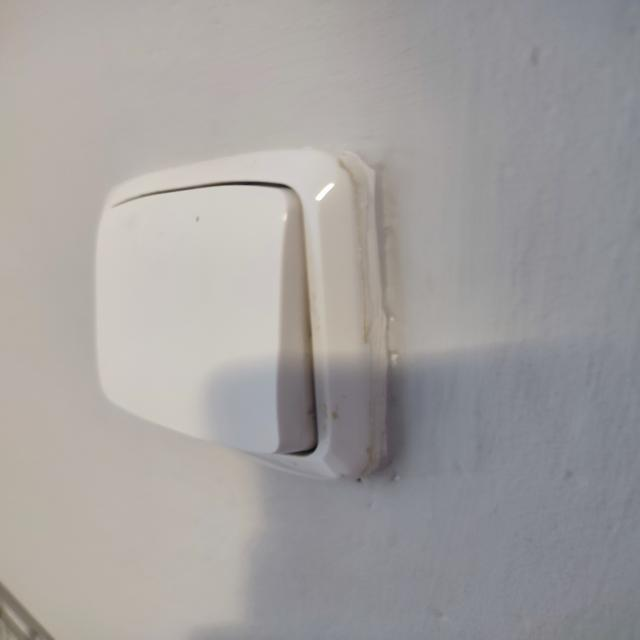house switch: (96, 146, 390, 481)
